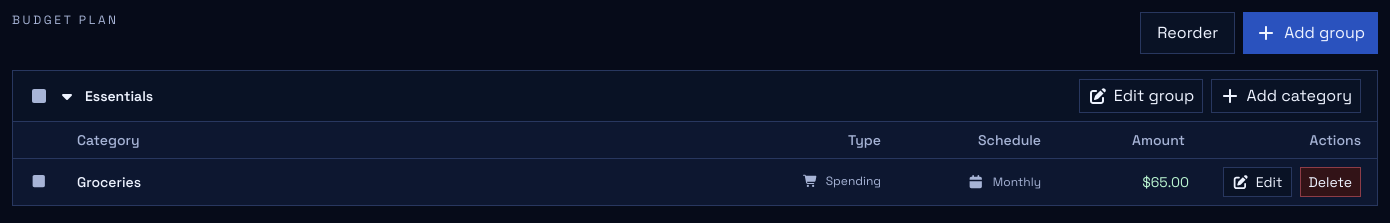
Test case: budget mutation feedback › keeps category editing separate from reorder mode
Expected: the button "Edit" is shown, x1=1223 y1=167 x2=1292 y2=197
Click the button "Reorder".
click(1188, 33)  # box x1=1140 y1=12 x2=1235 y2=54
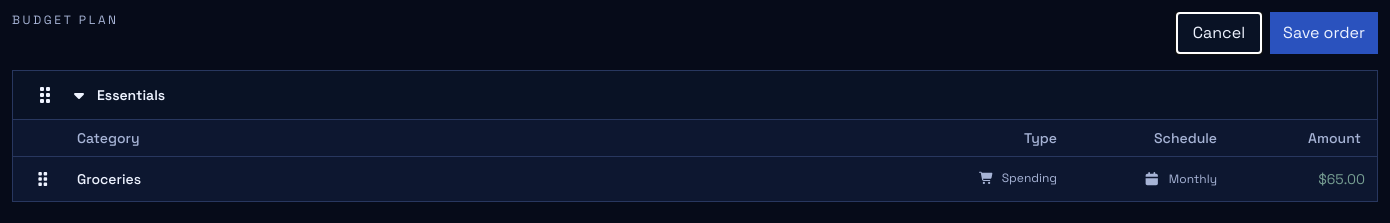
Result: the button "Save order" is shown at x1=1270 y1=12 x2=1378 y2=54
Result: the button "Cancel" is shown
Result: the button named "Drag category Groceries" is shown at x1=29 y1=165 x2=57 y2=193
Click the button "Cancel".
click(1219, 33)  # box x1=1176 y1=12 x2=1262 y2=54
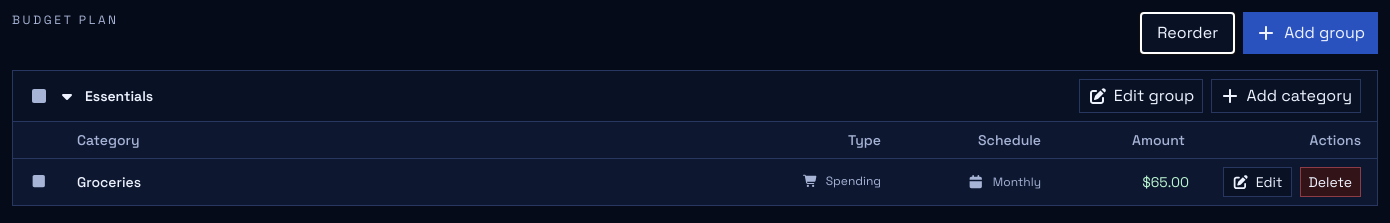
Result: the button "Reorder" is shown
Click the button "Reorder".
click(1188, 33)  # box x1=1140 y1=12 x2=1235 y2=54
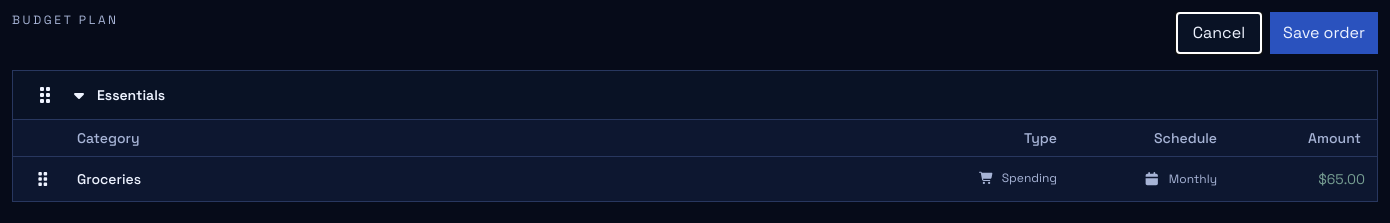
Click the button "Save order".
click(1324, 33)  # box x1=1270 y1=12 x2=1378 y2=54
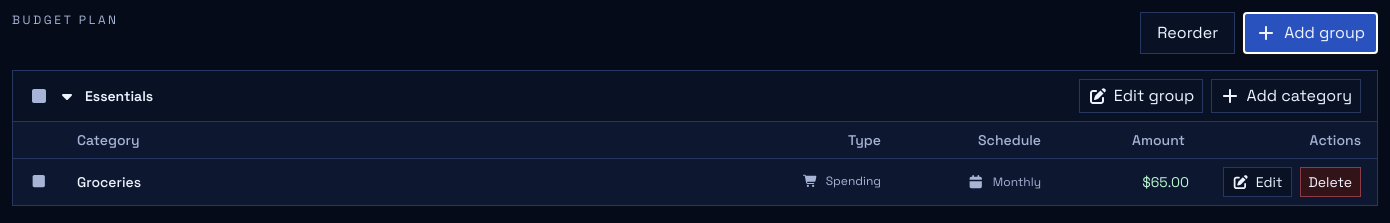
Result: the button "Reorder" is shown at x1=1140 y1=12 x2=1235 y2=54
